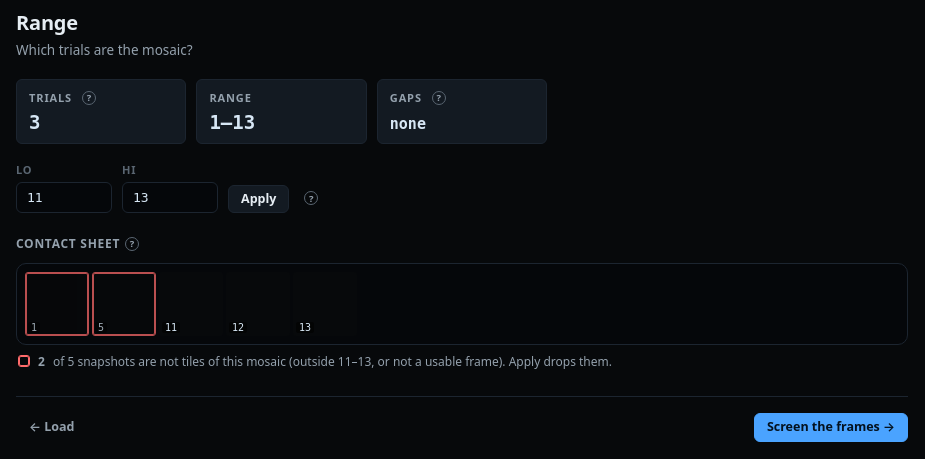
Scenario: the contact sheet marks what is not a tile of this mosaic › the marking is LIVE against the range he is typing
Replace the text in the number field with test id "range-lo" with "1" at {"x": 64, "y": 198}, box [16, 182, 112, 213]
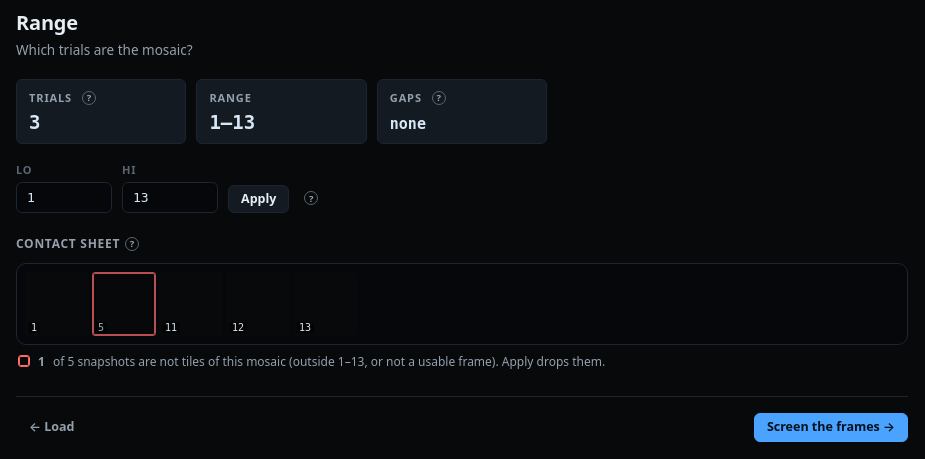
Now the text with test id "sheet-n-out" reads "1", box [38, 353, 45, 370]
